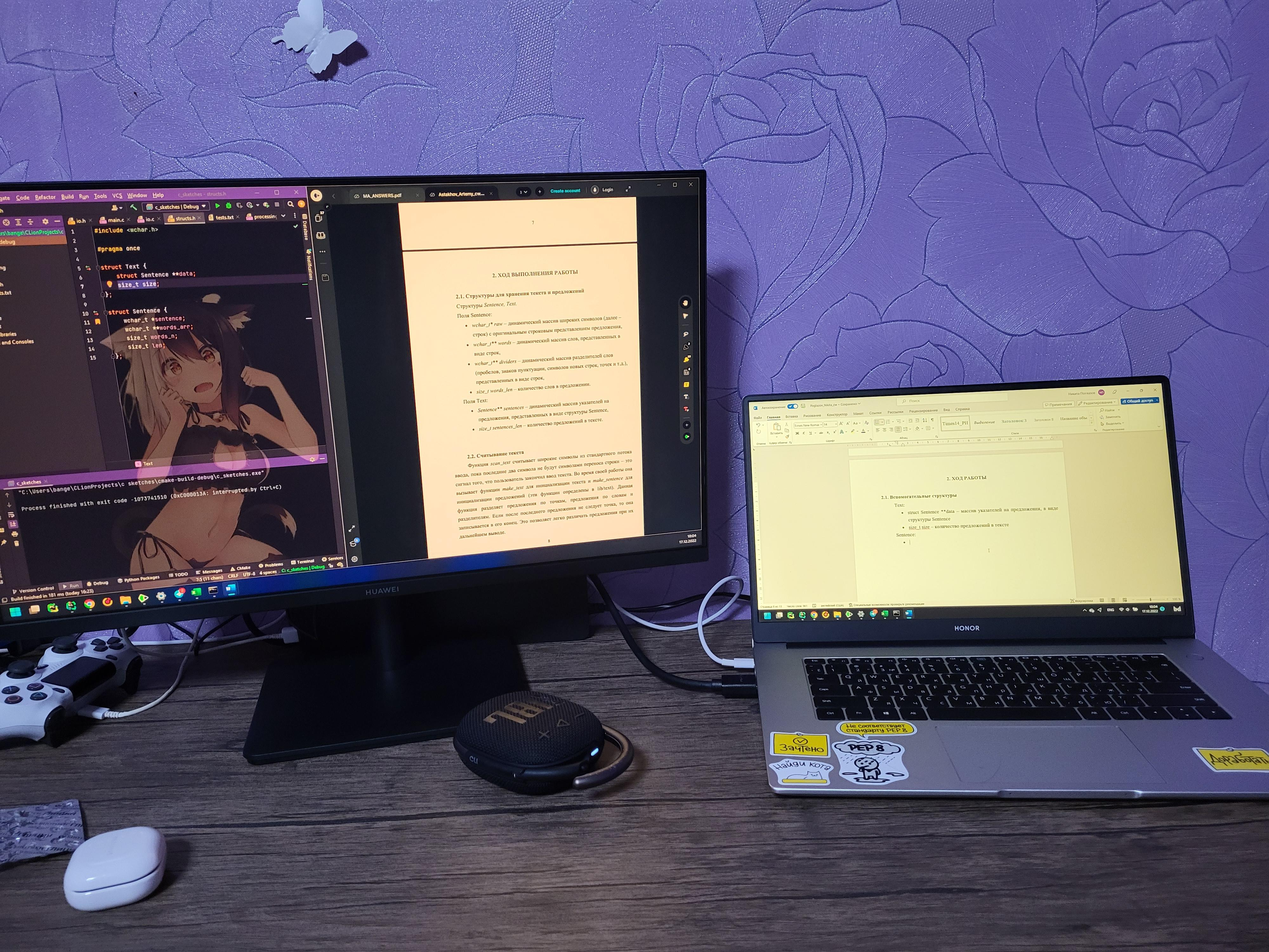monitor: (0, 160, 720, 651), (738, 365, 1201, 654)
